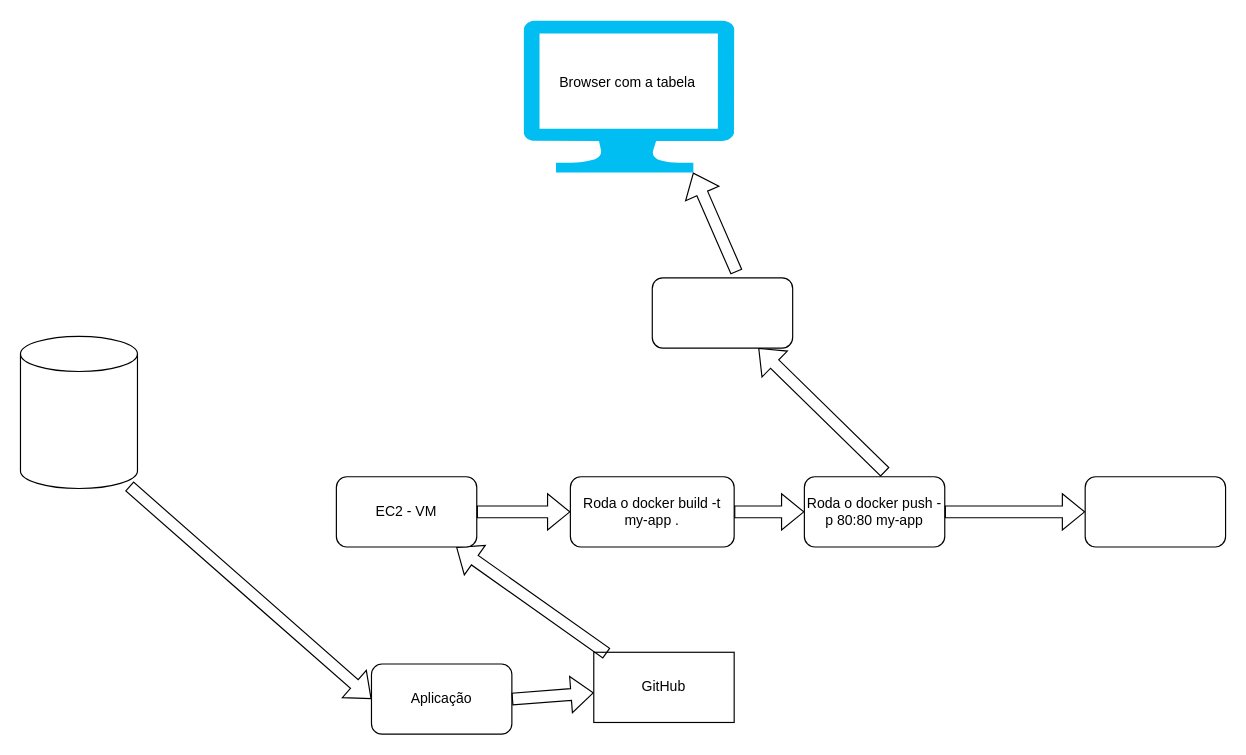
Some shapes in this 1246 by 755 pixel diagram are drawn without their labels. The shapes that lost their labels are listed below. From the top down, each one's centre as x and y in pixels, then its label:
At pixel 722 312: "acesse: localhost:80".
At pixel 78 411: "RDS - PostgreSql".
At pixel 1155 511: "Dbeaver para confirmar a tabela no browser".
